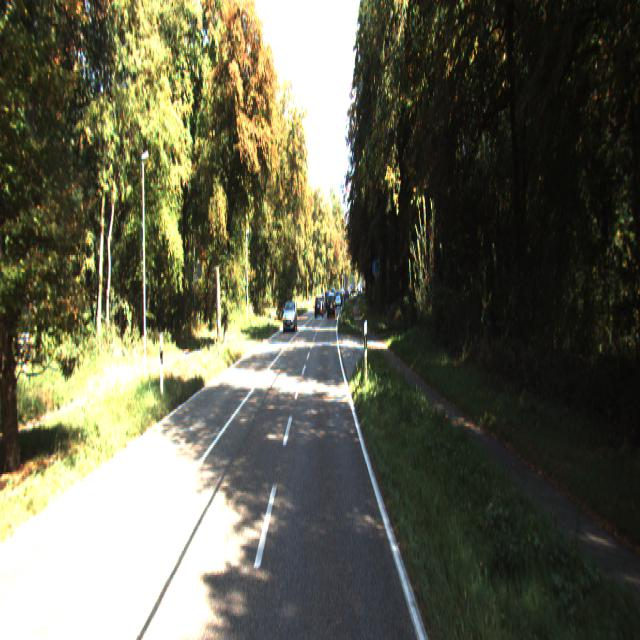Car: (282, 298, 298, 330)
